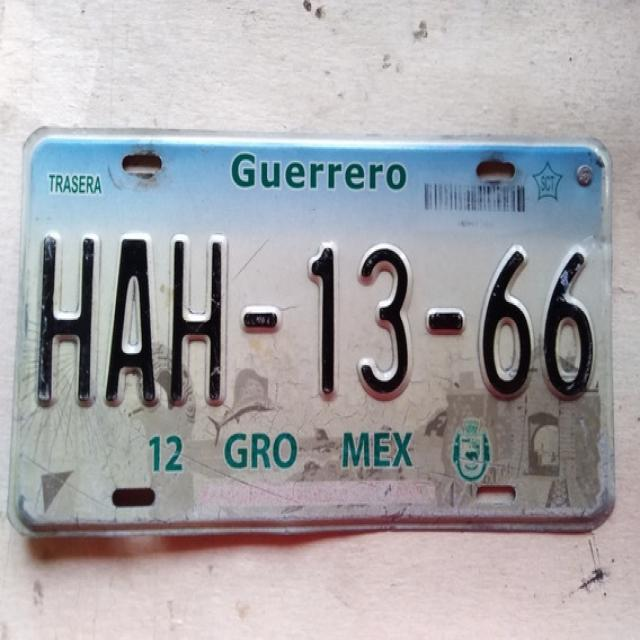placa: (24, 210, 608, 422)
